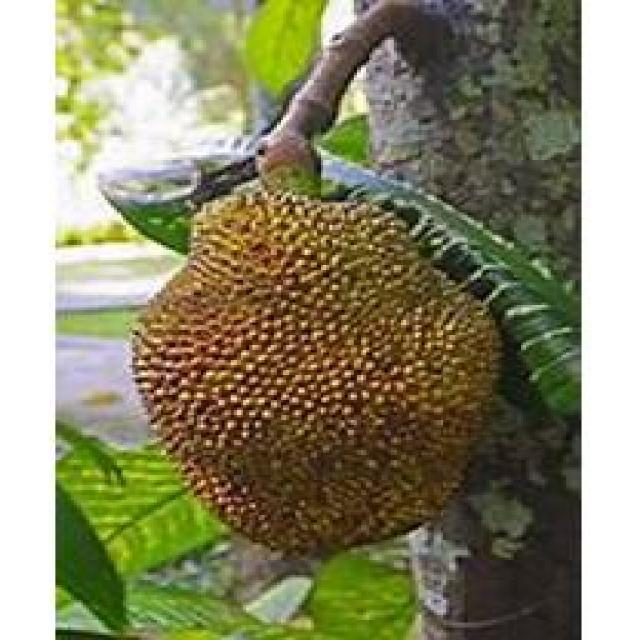fruit: (104, 170, 536, 600)
